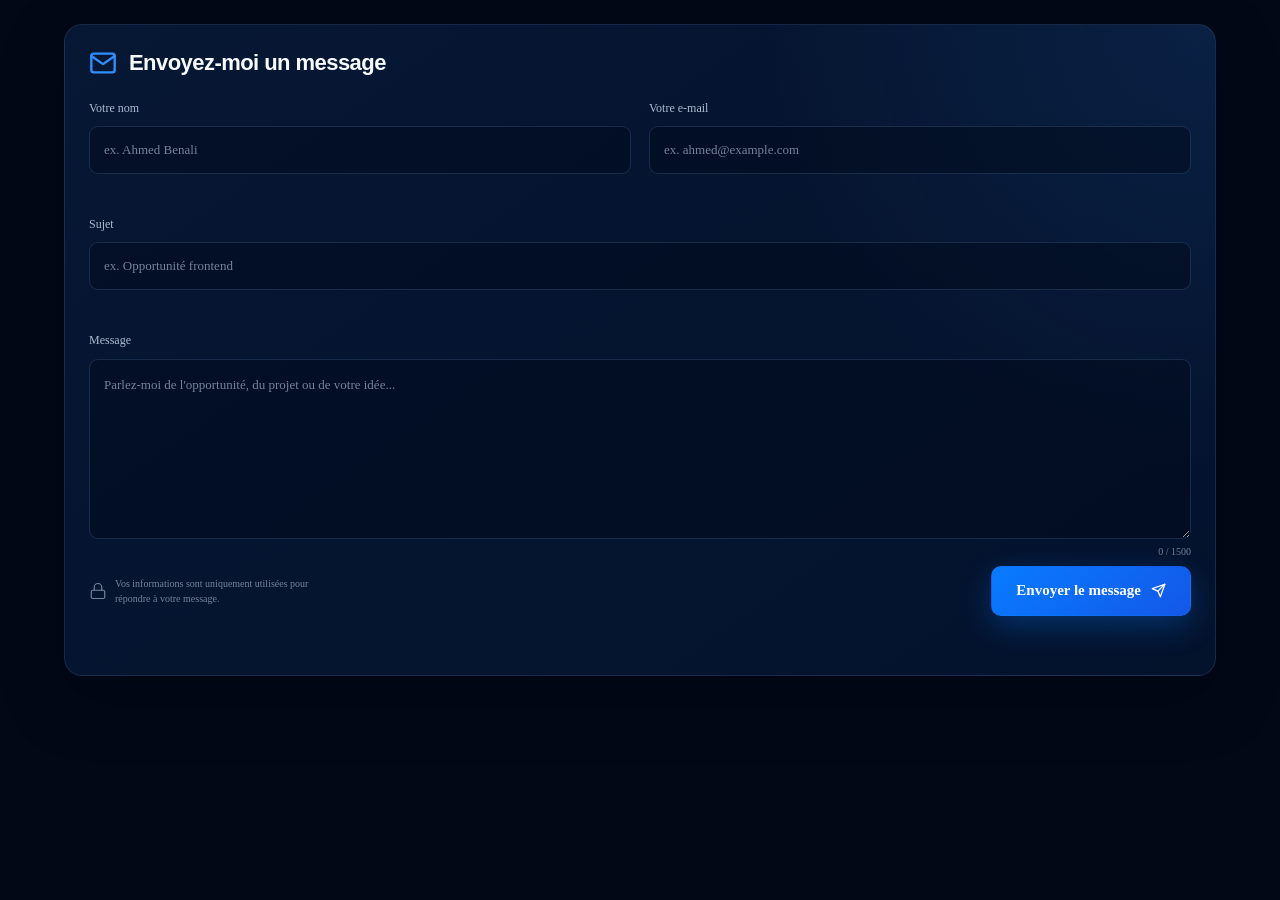
ContactForm › uses the French message for INVALID_FORM
This screenshot has width=1280, height=900.
In the field labelled "Votre nom": (360, 150) x1=89 y1=126 x2=631 y2=174, type "Jane Doe"
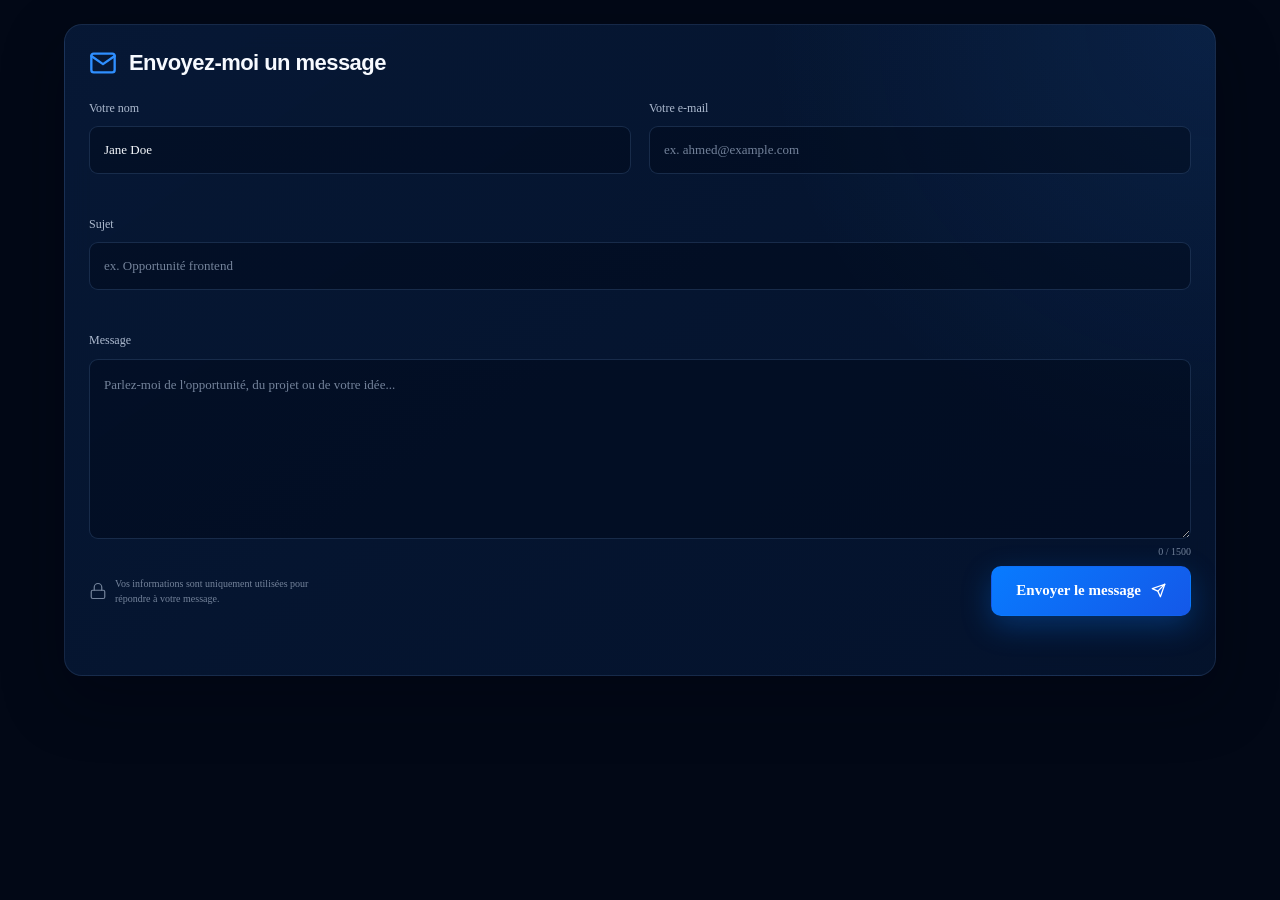
In the field labelled "Votre e-mail": (920, 150) x1=649 y1=126 x2=1191 y2=174, type "jane@example.com"
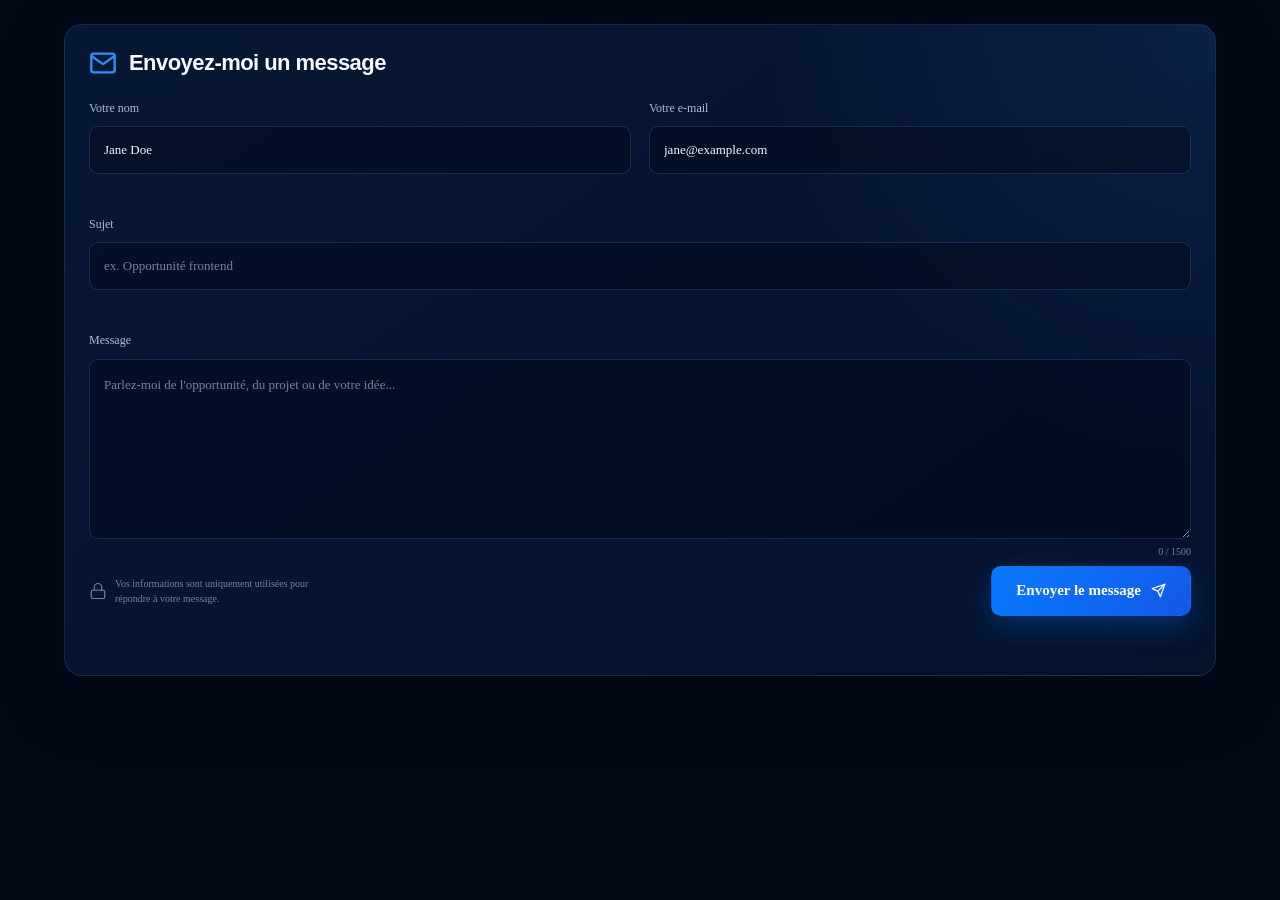
In the field labelled "Sujet": (640, 266) x1=89 y1=242 x2=1191 y2=290, type "Opportunité frontend"
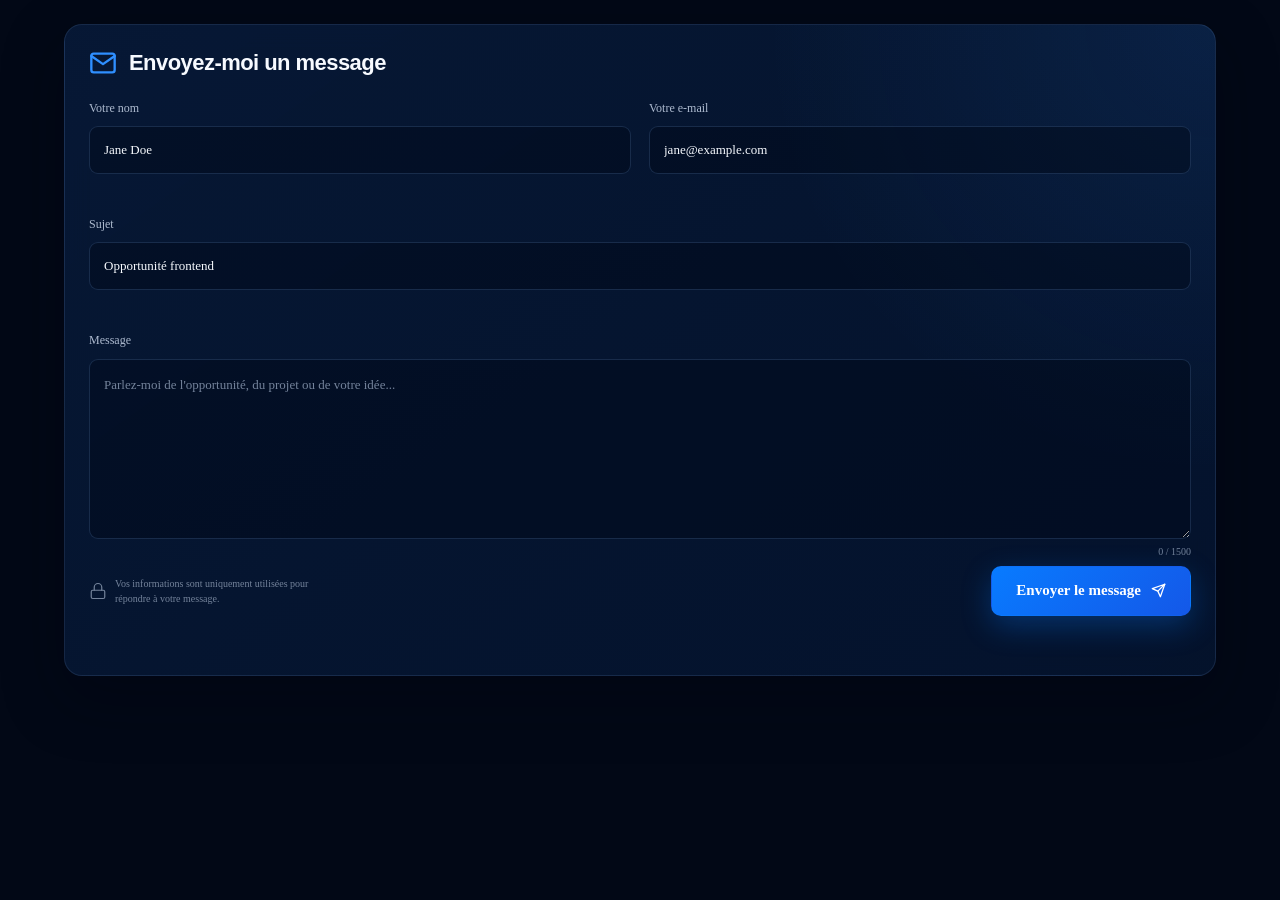
In the text box labelled "Message": (640, 449) x1=89 y1=359 x2=1191 y2=539, type "Je souhaite discuter d'une opportunité frontend."
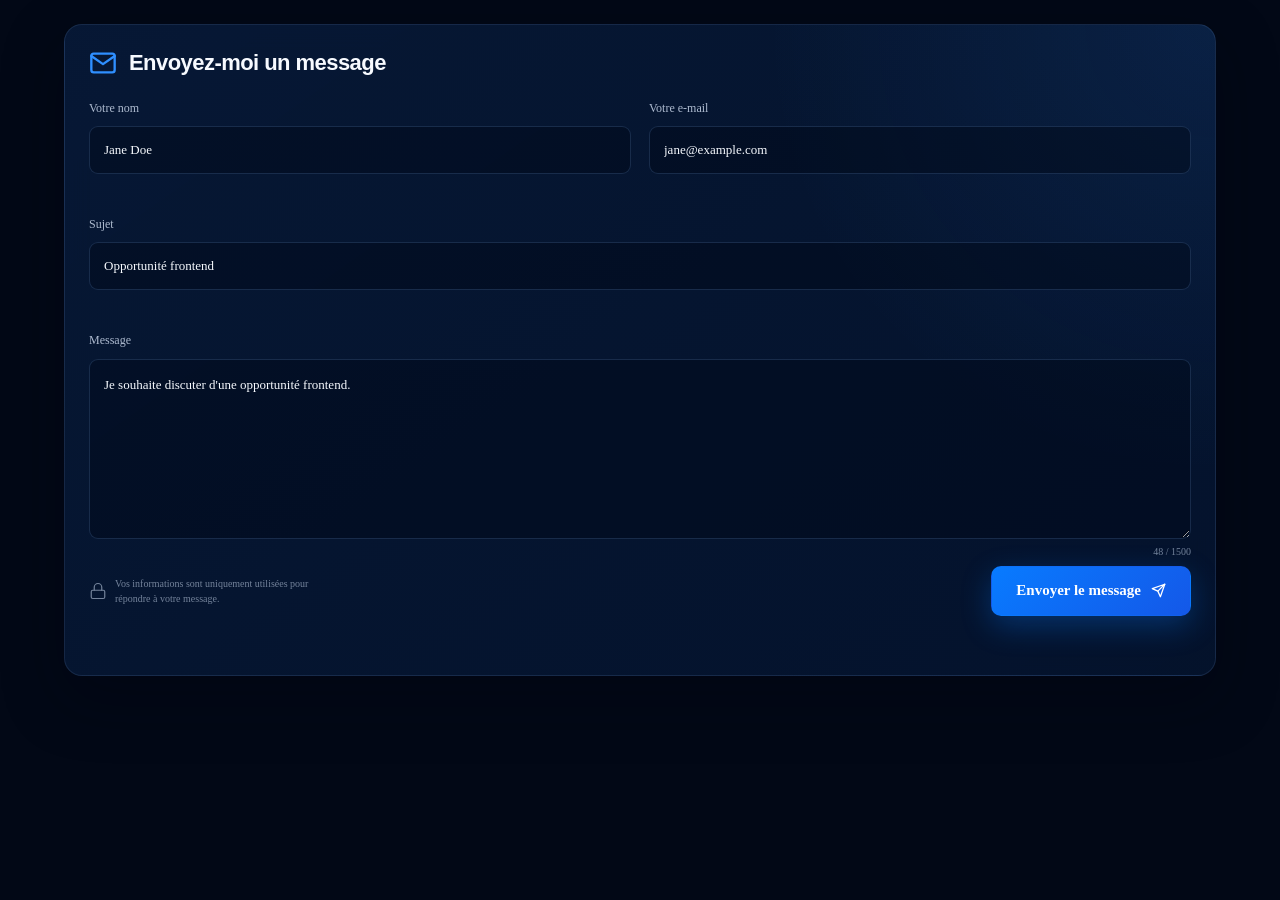
Click the button "Envoyer le message": (1091, 591) x1=991 y1=566 x2=1191 y2=616
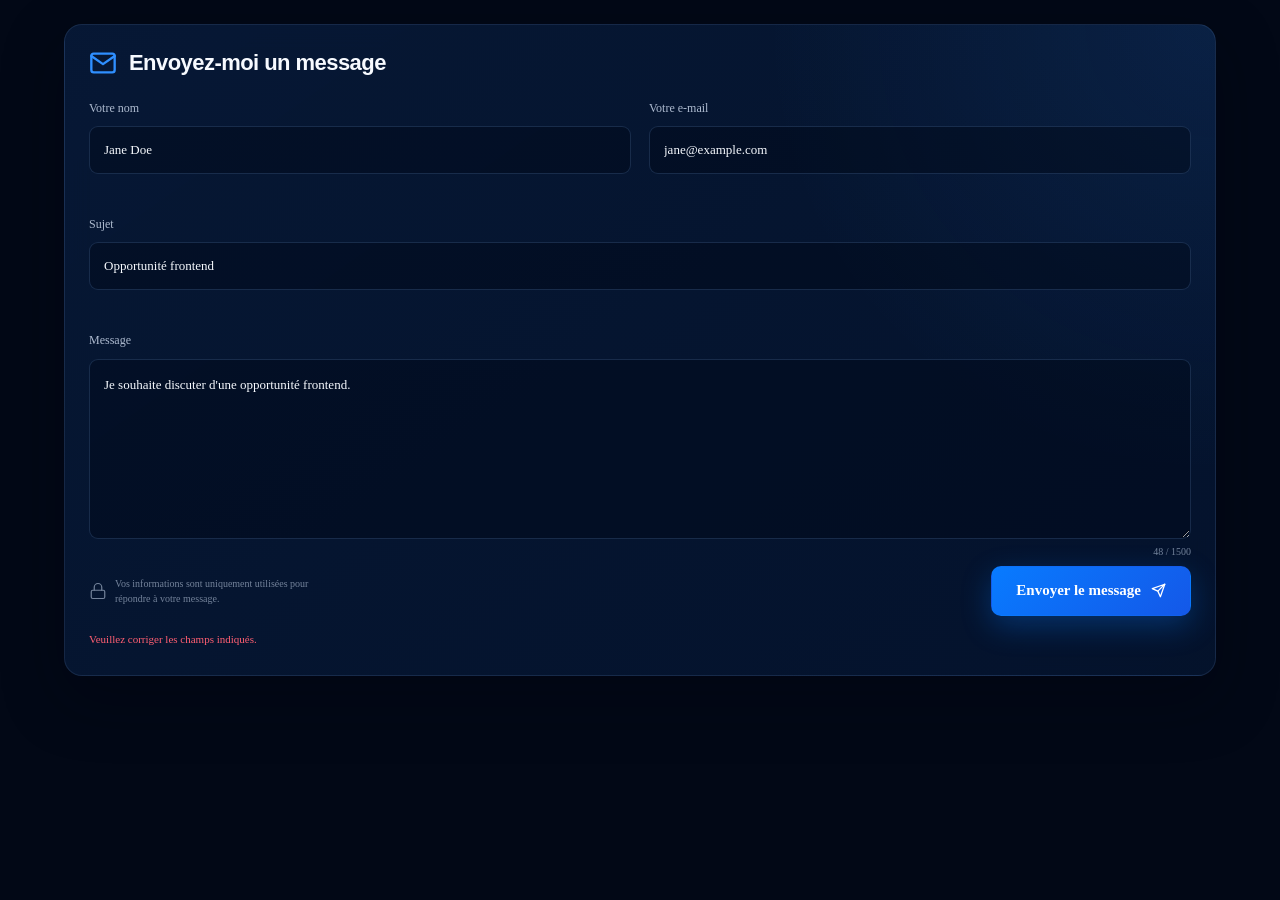
Expected: the text "Veuillez corriger les champs indiqués." is shown, x1=89 y1=633 x2=257 y2=645
